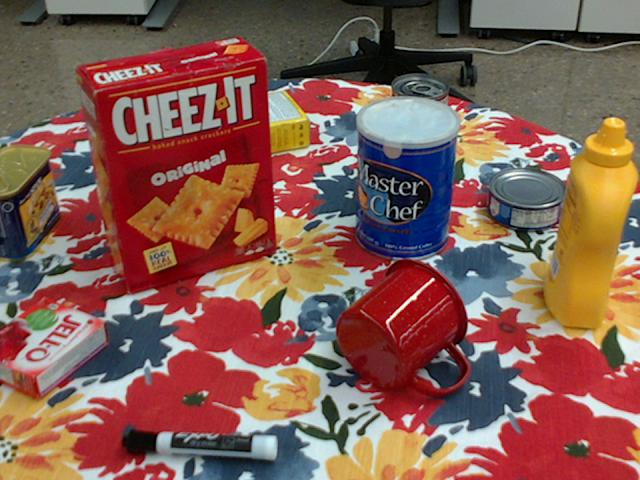cracker_box: (74, 37, 272, 291)
gelatin_box: (0, 297, 109, 399)
large_marker: (121, 428, 277, 459)
master_chef_can: (356, 97, 459, 262)
mug: (336, 258, 469, 394)
mustard_bottle: (541, 119, 634, 328)
potted_meat_can: (0, 143, 57, 260)
sugar_box: (152, 91, 308, 171)
tomato_soup_can: (388, 74, 448, 175)
tuna_fish_can: (486, 170, 567, 233)
